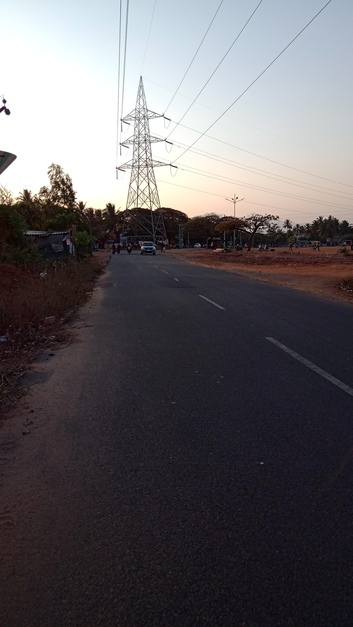bump: (108, 250, 170, 254)
